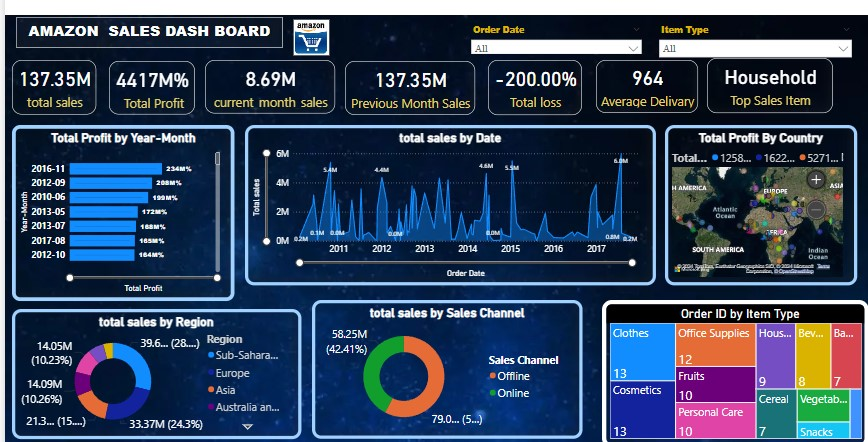

The page's visual inventory and layout, read from the dashboard file:
{"tool":"powerbi","page":{"name":"Page 2","canvas":[1600,900],"ordinal":1},"visuals":[{"type":"textbox","title":"AMAZON SALE DATA DASH BOARD","box":[20.7,50.6,494.3,57.5],"z":0},{"type":"slicer","fields":{"Values":["Amazon sales data.Item Type"]},"box":[1201.9,57.4,375.9,85.2],"z":1000},{"type":"barChart","title":"Total Profit by Year-Month","fields":{"Category":["Date.Year-Month"],"Y":["Sum(Amazon sales data.Total Profit)"]},"box":[12.9,250.1,412,325.5],"z":2000},{"type":"donutChart","fields":{"Category":["Amazon sales data.Region"],"Y":["Amazon sales data.total sales"]},"box":[13.8,590.8,535.6,241.4],"z":3000},{"type":"treemap","title":" Order ID by Item Type","fields":{"Group":["Amazon sales data.Item Type"],"Values":["Count(Amazon sales data.Order ID)"]},"box":[1105.7,574.7,494.3,273.6],"z":4000},{"type":"donutChart","fields":{"Category":["Amazon sales data.Sales Channel"],"Y":["Amazon sales data.total sales"]},"box":[567.8,574.7,501.1,257.5],"z":5000},{"type":"areaChart","fields":{"Y":["Amazon sales data.total sales"],"Category":["Date.Date"]},"box":[443.7,250.6,760.9,296.6],"z":6000},{"type":"map","title":" Total Profit By Country","fields":{"Category":["Amazon sales data.Country"],"Series":["Amazon sales data.Total Profit"]},"box":[1223,250.6,356.3,296.6],"z":7000},{"type":"card","fields":{"Values":["Amazon sales data.total sales"]},"box":[13.8,128.7,156.3,101.1],"z":8000},{"type":"card","fields":{"Values":["Sum(Amazon sales data.Total Profit)"]},"box":[193.1,131,158.6,98.9],"z":9000},{"type":"card","fields":{"Values":["Amazon sales data.current_month_sales"]},"box":[370.1,128.7,241.4,98.9],"z":10000},{"type":"card","fields":{"Values":["Amazon sales data.Previous Month Sales"]},"box":[629.6,131.5,240.7,100],"z":11000},{"type":"card","fields":{"Values":["Sum(Amazon sales data.Total loss)"]},"box":[894.4,129.6,174.1,101.9],"z":12000},{"type":"card","fields":{"Values":["Sum(Amazon sales data.Average Delivary)"]},"box":[1094.4,129.6,188.9,98.1],"z":13000},{"type":"image","box":[418.4,50.6,298.9,75.9],"z":14000},{"type":"card","fields":{"Values":["Amazon sales data.Top Sales Item"]},"box":[1300,125.9,233.3,101.9],"z":14001},{"type":"slicer","fields":{"Values":["Amazon sales data.Order Date"]},"box":[853.7,57.4,335.2,61.1],"z":14002}]}

Visuals, with their boxes on the page's 1600x900 design canvas (x1, y1, x2, y2). These are canvas units, not pixel positions in the 868x442 screenshot, which may show the page scaled, cropped or inside an application window:
"AMAZON SALE DATA DASH BOARD" textbox: <region>21, 51, 515, 108</region>
slicer - Amazon sales data.Item Type: <region>1202, 57, 1578, 143</region>
"Total Profit by Year-Month" barChart: <region>13, 250, 425, 576</region>
donutChart - Amazon sales data.Region x Amazon sales data.total sales: <region>14, 591, 549, 832</region>
" Order ID by Item Type" treemap: <region>1106, 575, 1600, 848</region>
donutChart - Amazon sales data.Sales Channel x Amazon sales data.total sales: <region>568, 575, 1069, 832</region>
areaChart - Amazon sales data.total sales x Date.Date: <region>444, 251, 1205, 547</region>
" Total Profit By Country" map: <region>1223, 251, 1579, 547</region>
card - Amazon sales data.total sales: <region>14, 129, 170, 230</region>
card - Sum(Amazon sales data.Total Profit): <region>193, 131, 352, 230</region>
card - Amazon sales data.current_month_sales: <region>370, 129, 612, 228</region>
card - Amazon sales data.Previous Month Sales: <region>630, 132, 870, 232</region>
card - Sum(Amazon sales data.Total loss): <region>894, 130, 1068, 232</region>
card - Sum(Amazon sales data.Average Delivary): <region>1094, 130, 1283, 228</region>
image: <region>418, 51, 717, 126</region>
card - Amazon sales data.Top Sales Item: <region>1300, 126, 1533, 228</region>
slicer - Amazon sales data.Order Date: <region>854, 57, 1189, 118</region>
